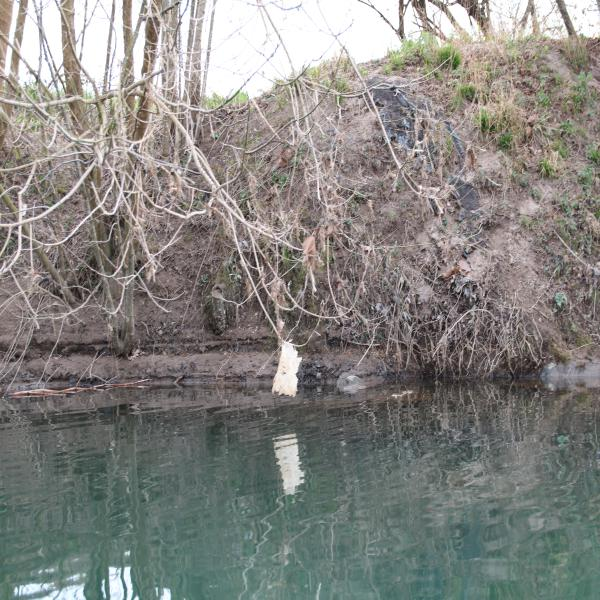fragments: (366, 82, 490, 254), (272, 341, 301, 395)
